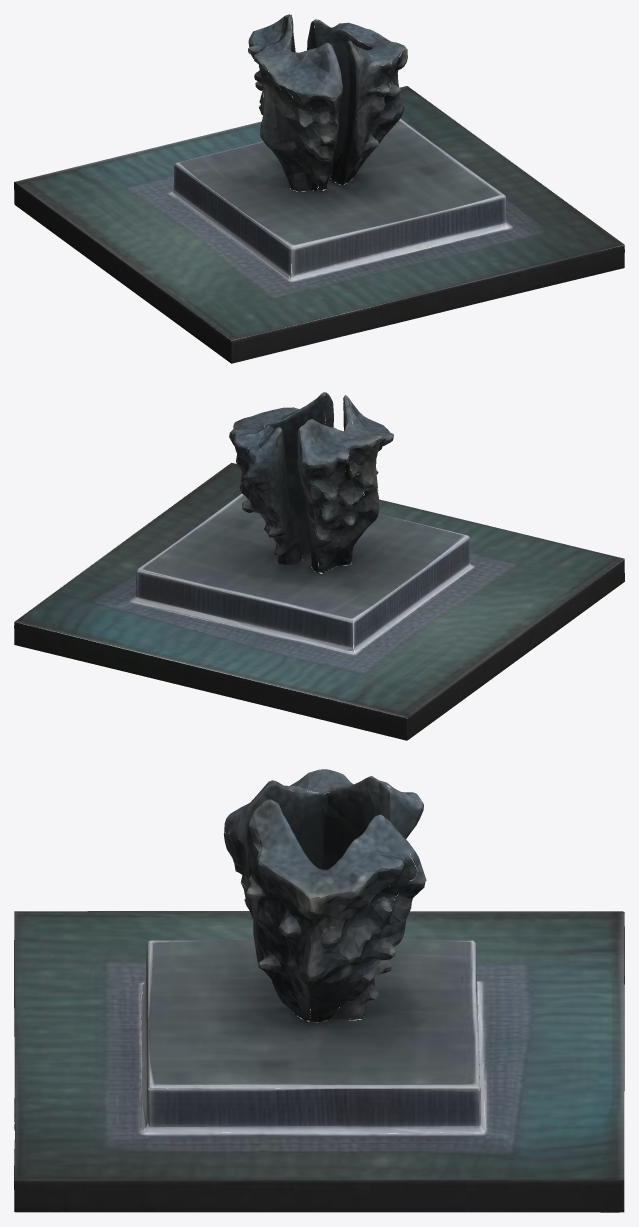
File: x-cascade.glb
The picture shows the model from 3 angles, top to bottom: view 1: azimuth 30°, elevation 25°; view 2: azimuth 150°, elevation 25°; view 3: azimuth 270°, elevation 25°; orthographic projection. The views are drawn at different scales.
Visible parts, largest first — view 1: geometry_0; view 2: geometry_0; view 3: geometry_0.
Boxes of the visible parts, <box> form: geometry_0: <box>14,14,624,363</box>; geometry_0: <box>14,392,624,740</box>; geometry_0: <box>14,769,624,1212</box>.
Bounding box in the file's own units: 1 × 0.511 × 0.9586.
1 material, 1 textured.
